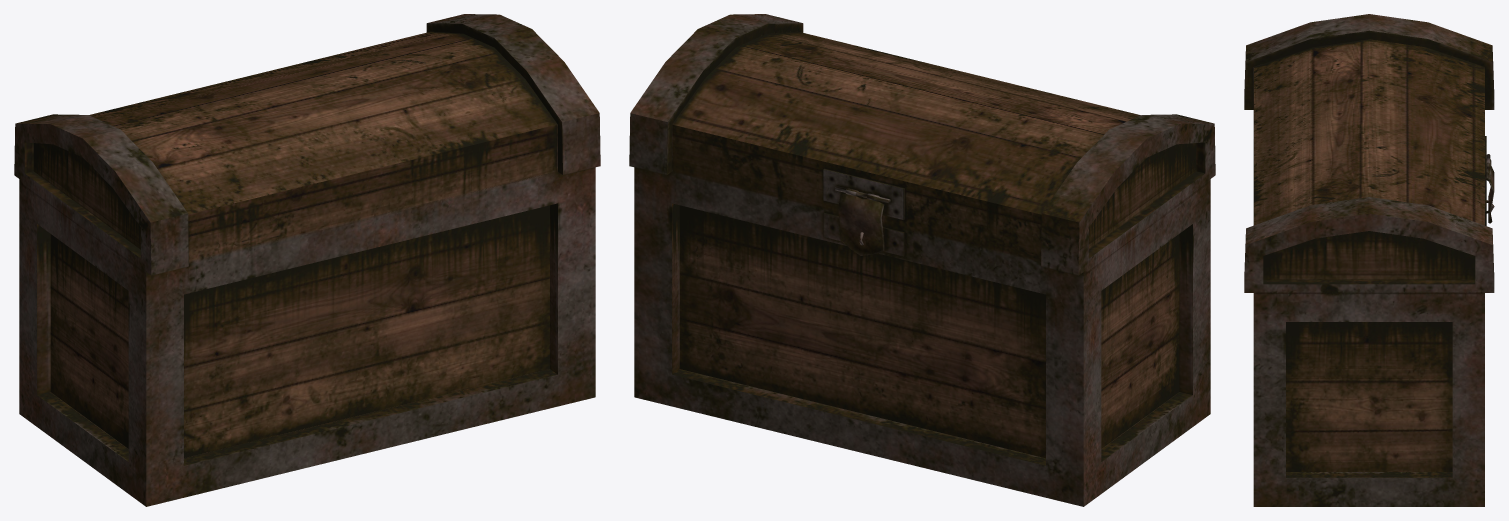
File: chest.glb
The picture shows the model from 3 angles, left to right: view 1: azimuth 30°, elevation 25°; view 2: azimuth 150°, elevation 25°; view 3: azimuth 270°, elevation 25°; orthographic projection. The views are drawn at different scales.
Parts seen in each view (by area): view 1: Chest_Chest_0; view 2: Chest_Chest_0; view 3: Chest_Chest_0.
Part boxes in pixels (<box>): Chest_Chest_0: <box>14,14,600,506</box>; Chest_Chest_0: <box>629,14,1215,506</box>; Chest_Chest_0: <box>1244,14,1494,506</box>.
Size of the model in its own units: 1200 by 822 by 636.
Materials: 1 (1 with a texture image).
